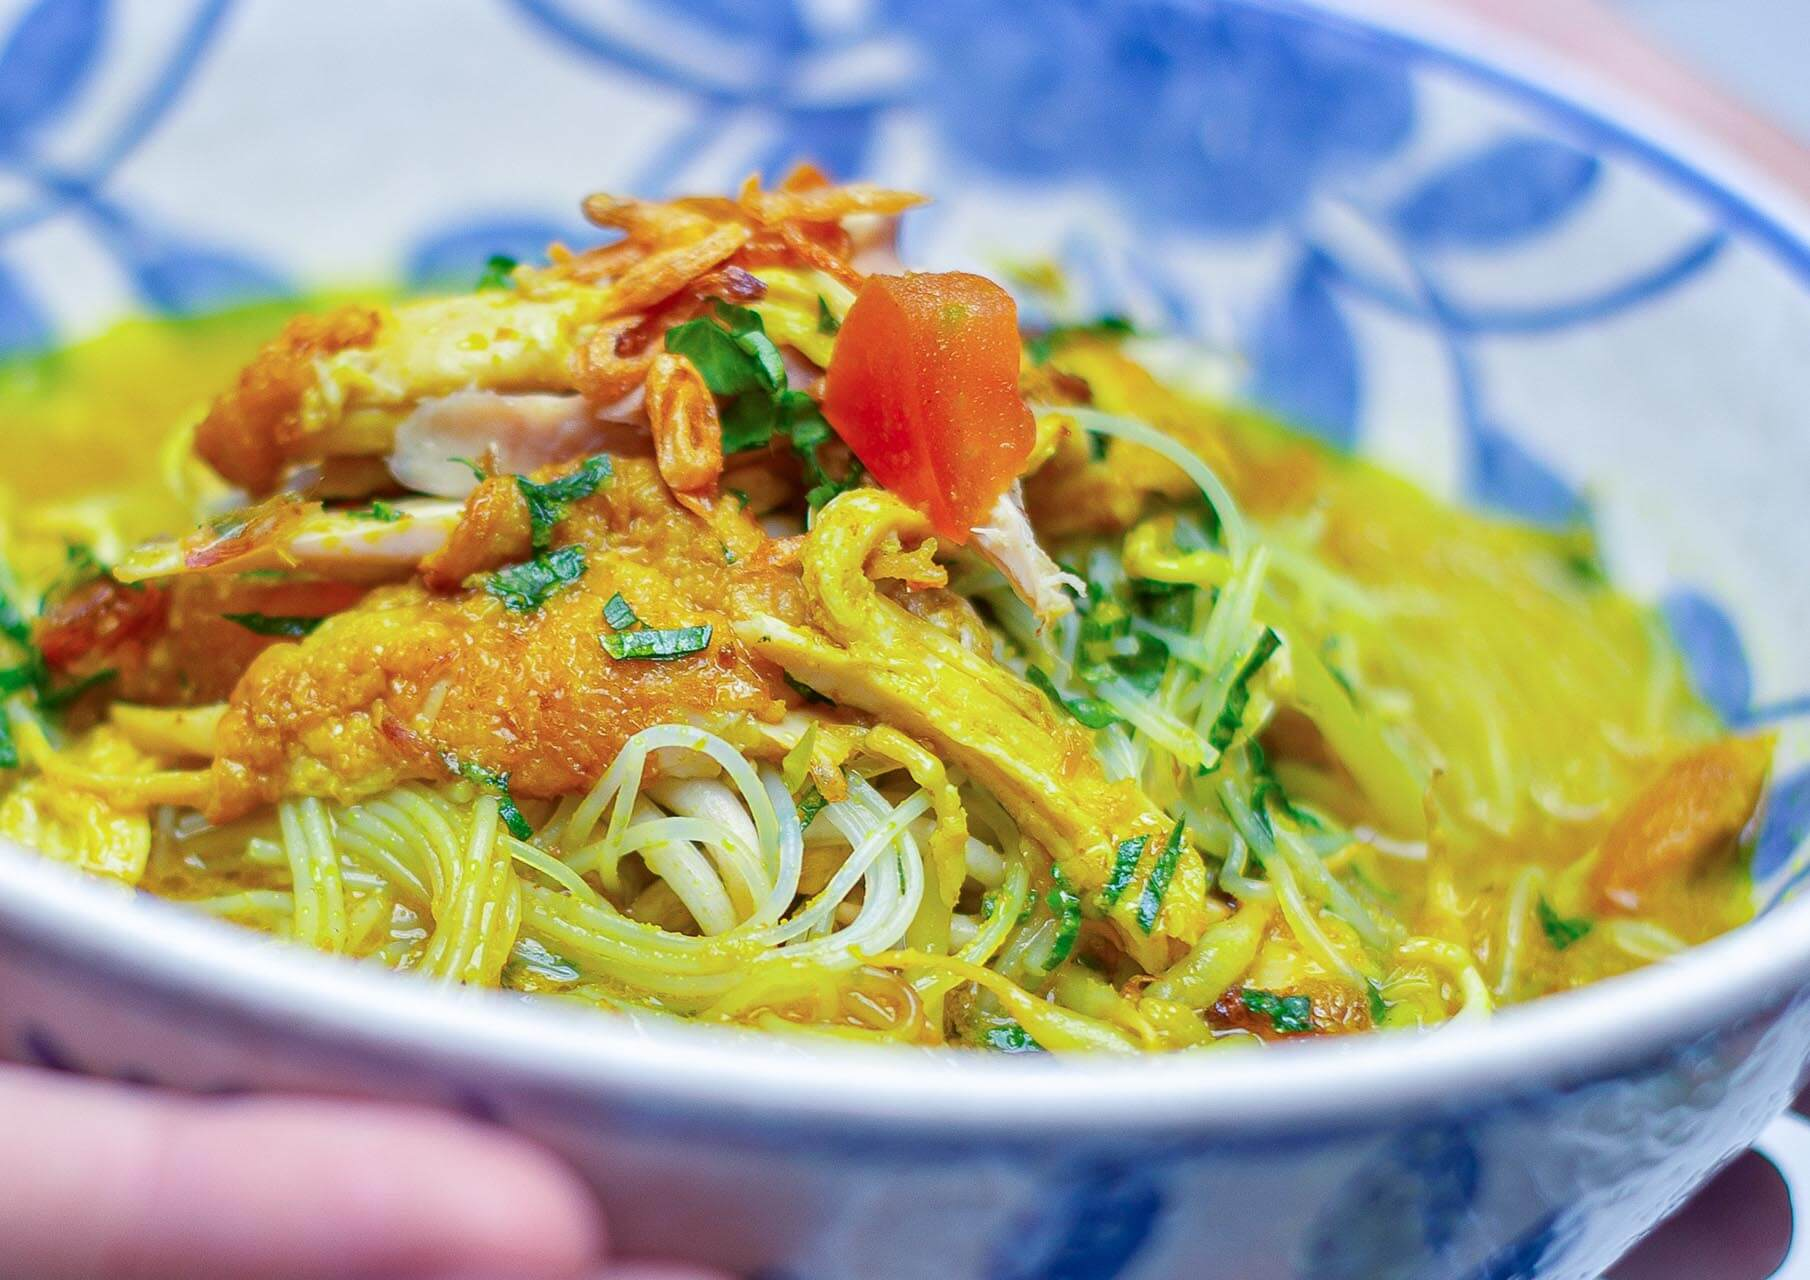soto: (8, 69, 1810, 1214)
